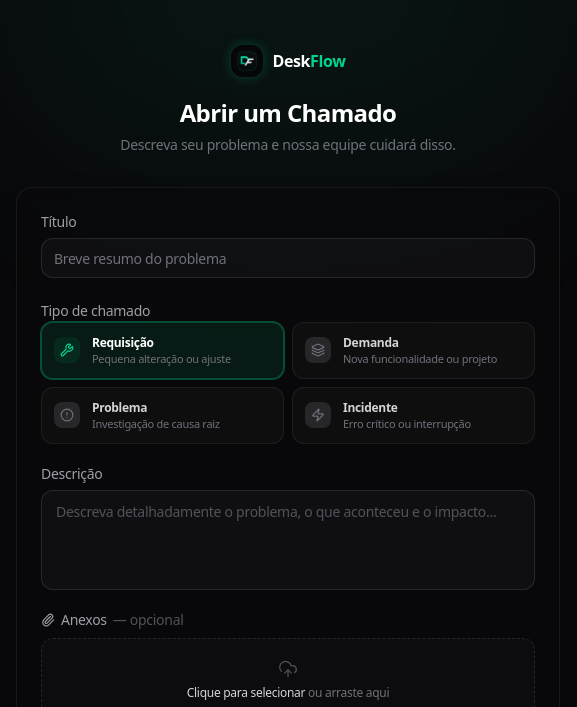
Scenario: Portal › passes priority for INCIDENT tickets
This screenshot has width=577, height=707.
Step 1. Click the text "Incidente" → point(370, 407), box [343,399,398,416]
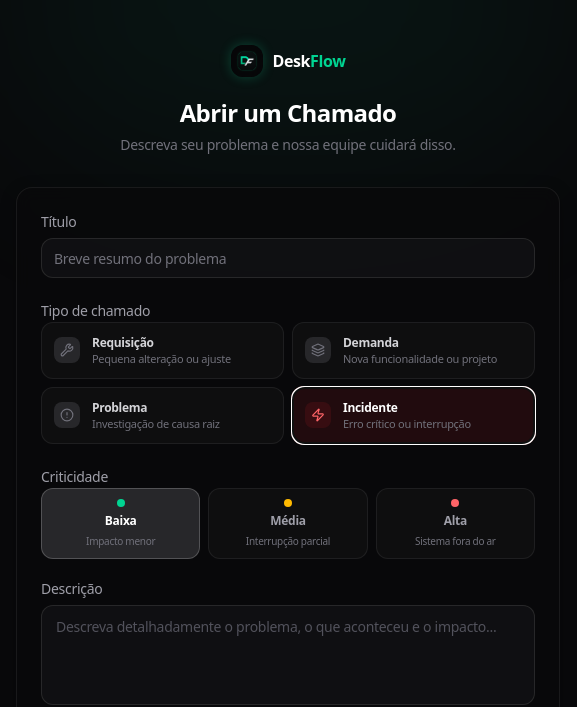
Result: the text "Criticidade" is shown at [41,466,108,486]
Step 2. Click the text "Alta" → point(455, 520), box [444,512,467,528]
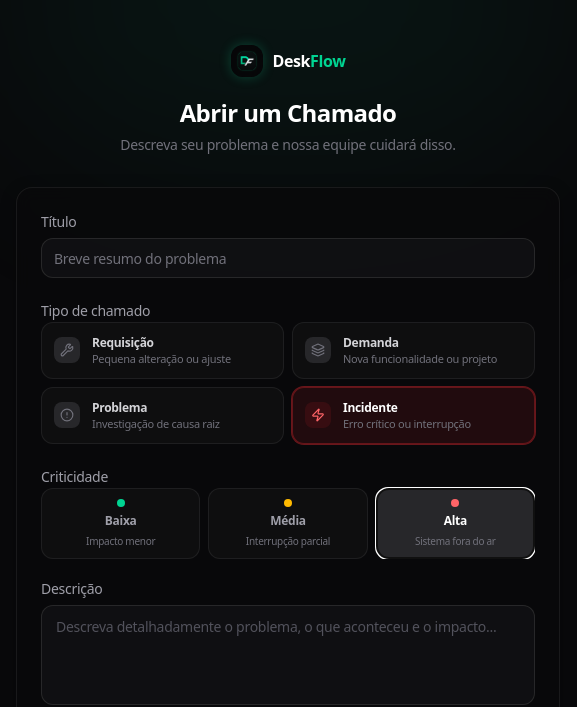
Step 3. Type "Incidente crítico" into the field with placeholder "Breve resumo do problema" → point(288, 258), box [41,238,535,278]
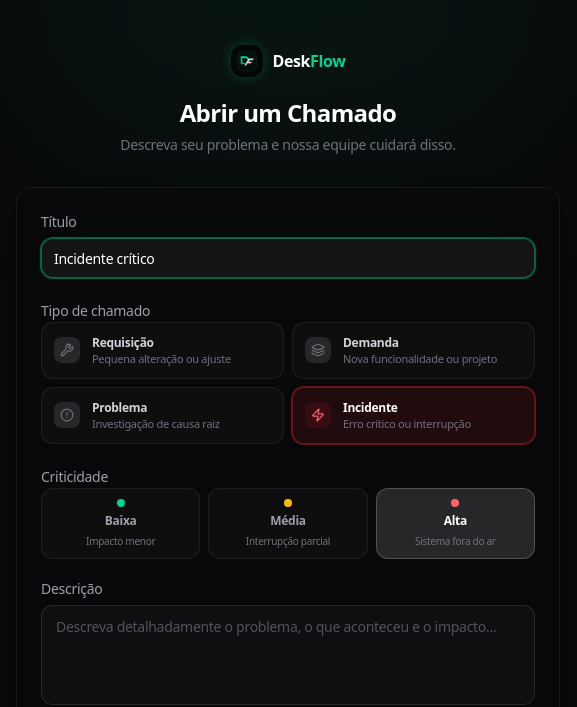
Step 4. Type "Sistema fora do ar" into the text box with placeholder "Descreva detalhadamente" → point(288, 655), box [41,605,535,705]
(page scrolled)
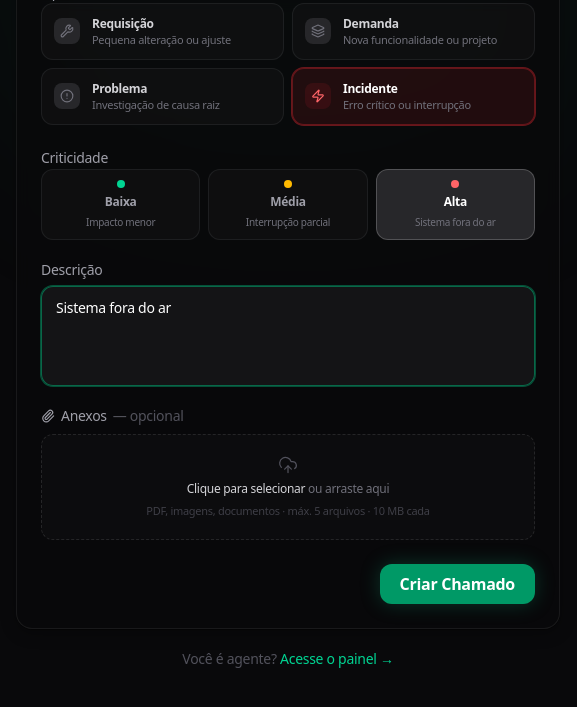
Step 5. Click the button "Criar Chamado" → point(457, 584), box [380,564,535,604]
(page scrolled)
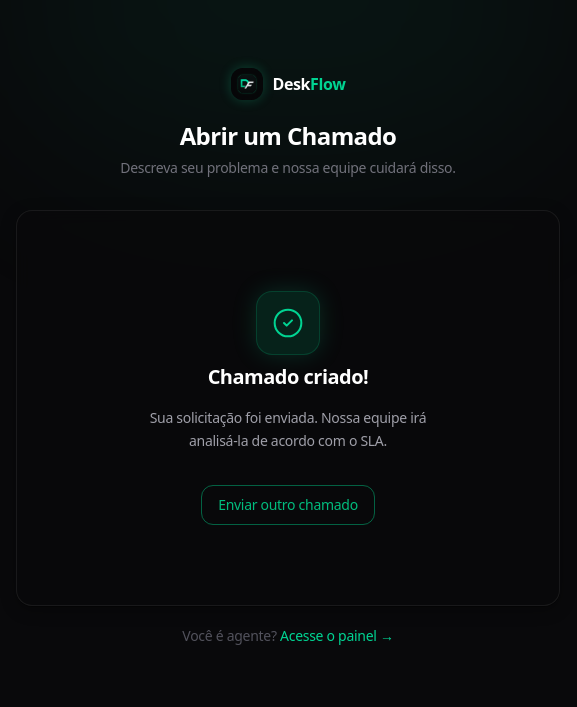
Result: the heading "Chamado criado!" is shown at [208,363,368,391]
